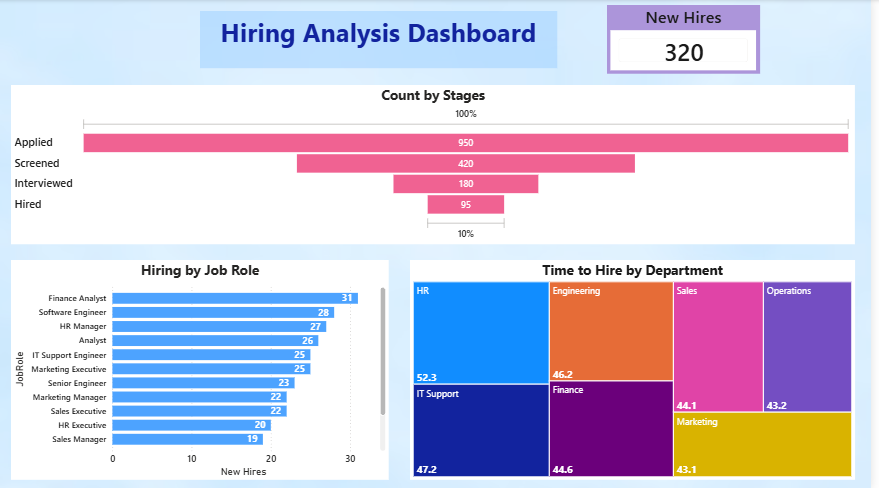

What the dashboard file says about the page in this screenshot:
{"tool":"powerbi","page":{"name":"HIRING ANALYSIS","canvas":[1280,720],"ordinal":2},"visuals":[{"type":"cardVisual","title":"New Hires","fields":{"Data":["Table.New Hires"]},"box":[893.4,8.8,224.8,101.4],"z":0},{"type":"funnel","title":" Count by Stages","fields":{"Category":["Table (2).Stage"],"Y":["Sum(Table (2).Count)"]},"box":[17.6,126.4,1240.2,233.6],"z":1000},{"type":"clusteredBarChart","title":" Hiring by Job Role","fields":{"Category":["dEmployee (1).JobRole"],"Y":["Table.New Hires"]},"box":[17.6,383.5,555.4,323.3],"z":2000},{"type":"treemap","title":"Time to Hire by Department","fields":{"Group":["dDepartment (1).DepartmentName"],"Values":["Table.Avg Time to Hire"]},"box":[603.9,383.5,653.9,323.3],"z":3000},{"type":"textbox","box":[295.3,17.6,524.6,83.8],"z":3001}]}

Visuals, with their boxes in screenshot pixels (x1, y1, x2, y2), scaled from the page's 1280x720 canvas onto the 879x488 screenshot:
"New Hires" cardVisual: BBox(614, 6, 768, 75)
" Count by Stages" funnel: BBox(12, 86, 864, 244)
" Hiring by Job Role" clusteredBarChart: BBox(12, 260, 393, 479)
"Time to Hire by Department" treemap: BBox(415, 260, 864, 479)
textbox: BBox(203, 12, 563, 69)
